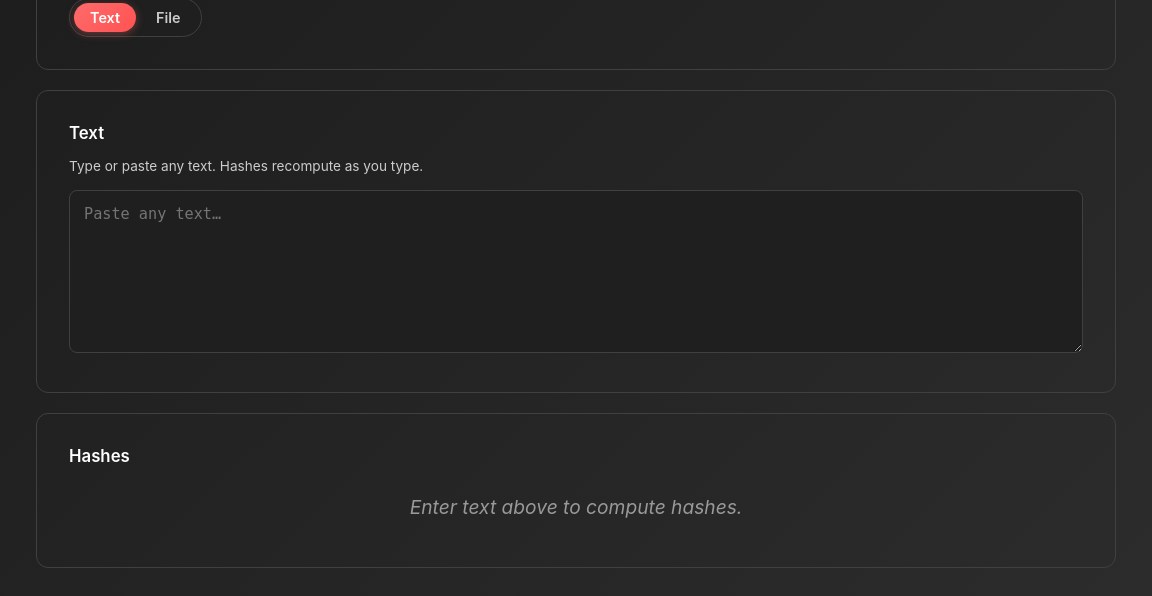
Test case: <HashGenerator /> › all four algorithm rows render
This screenshot has width=1152, height=596.
(page scrolled)
Type "abc" into the text box named "text to hash". click: (576, 271)
box: x1=69 y1=190 x2=1083 y2=353
(page scrolled)
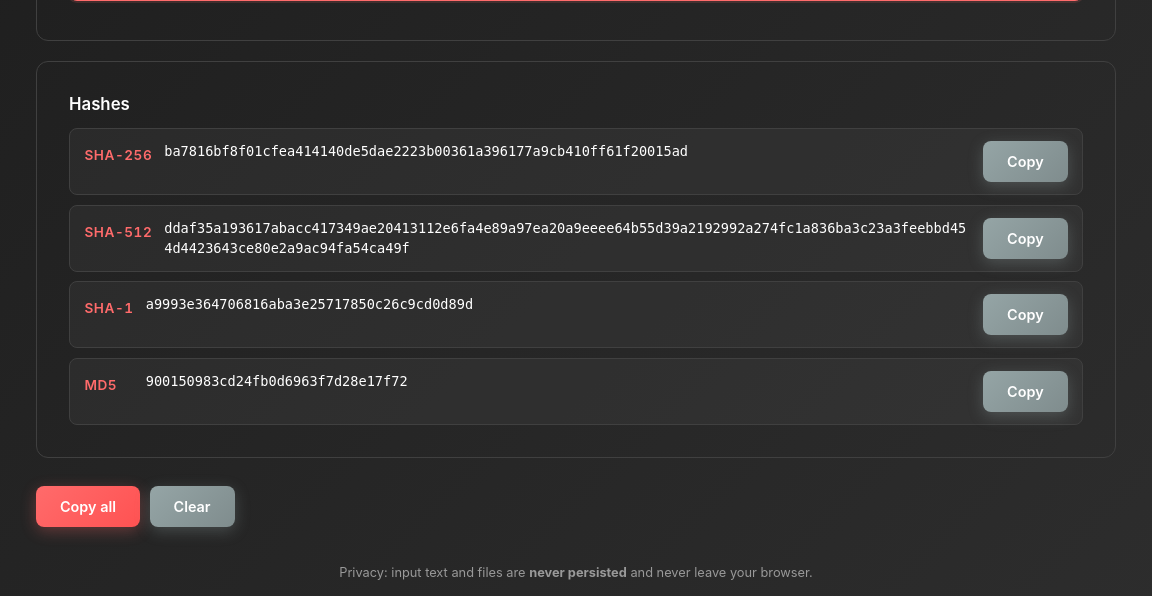
Result: the text "ba7816bf8f01cfea414140de5dae2223b00361a396177a9cb410ff61f20015ad" is shown at x1=164 y1=143 x2=688 y2=159
Result: the text "SHA-256" is shown at x1=84 y1=141 x2=152 y2=167
Result: the text "SHA-512" is shown at x1=84 y1=218 x2=152 y2=244
